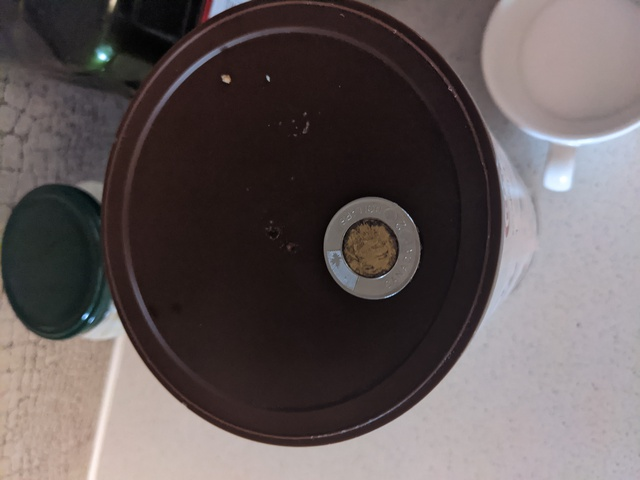twonie: (320, 195, 424, 300)
